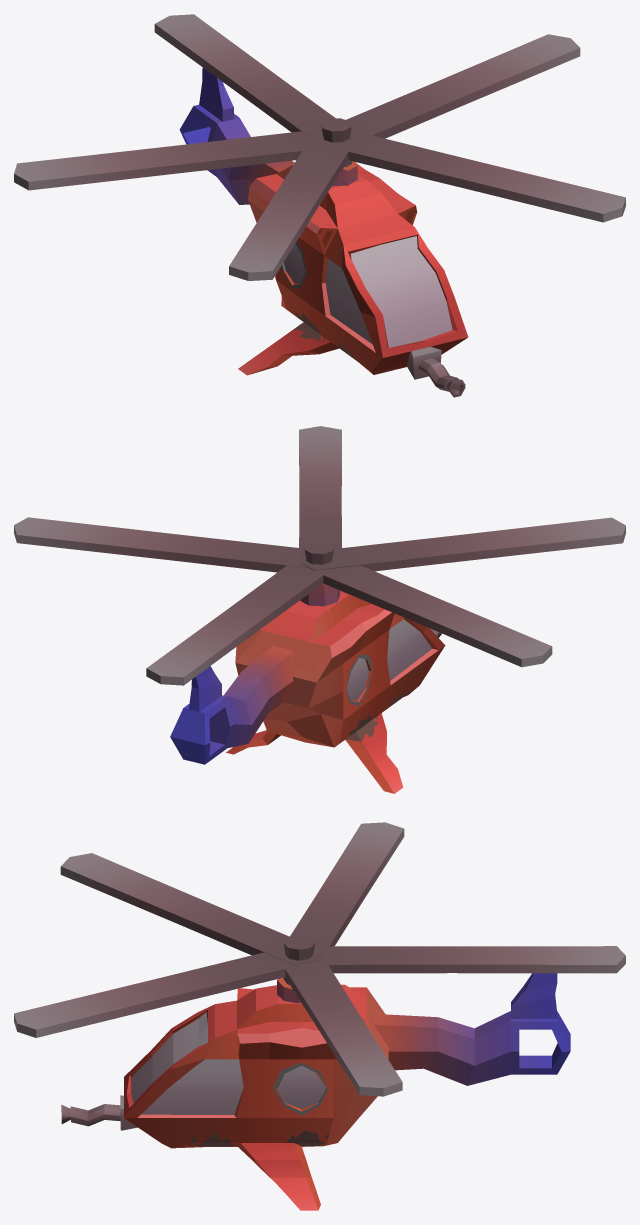
Rendered from SM_Helicopter.fbx.
3 renders of one model, top to bottom at view 1: azimuth 30°, elevation 25°; view 2: azimuth 150°, elevation 25°; view 3: azimuth 270°, elevation 25°, orthographic. The views are drawn at different scales.
Visible parts, largest first — view 1: Cylinder.005, Cube, Cube.001, Cylinder.001; view 2: Cylinder.005, Cube, Cube.001, Cylinder.002, Cylinder.001; view 3: Cylinder.005, Cube, Cube.001, Cylinder.001.
Boxes of the visible parts, x1,y1,x2,y2 form: Cylinder.005: (14,14,625,280); Cube: (238,163,468,397); Cube.001: (179,67,294,204); Cylinder.001: (320,118,351,166); Cylinder.005: (14,426,625,685); Cube: (226,590,445,793); Cube.001: (170,645,293,764); Cylinder.002: (300,583,339,606); Cylinder.001: (304,541,334,564); Cylinder.005: (14,822,625,1096); Cube: (61,984,388,1210); Cube.001: (373,973,570,1085); Cylinder.001: (283,936,314,984).
Size of the model in its own units: 13.01 by 5.13 by 12.64.
